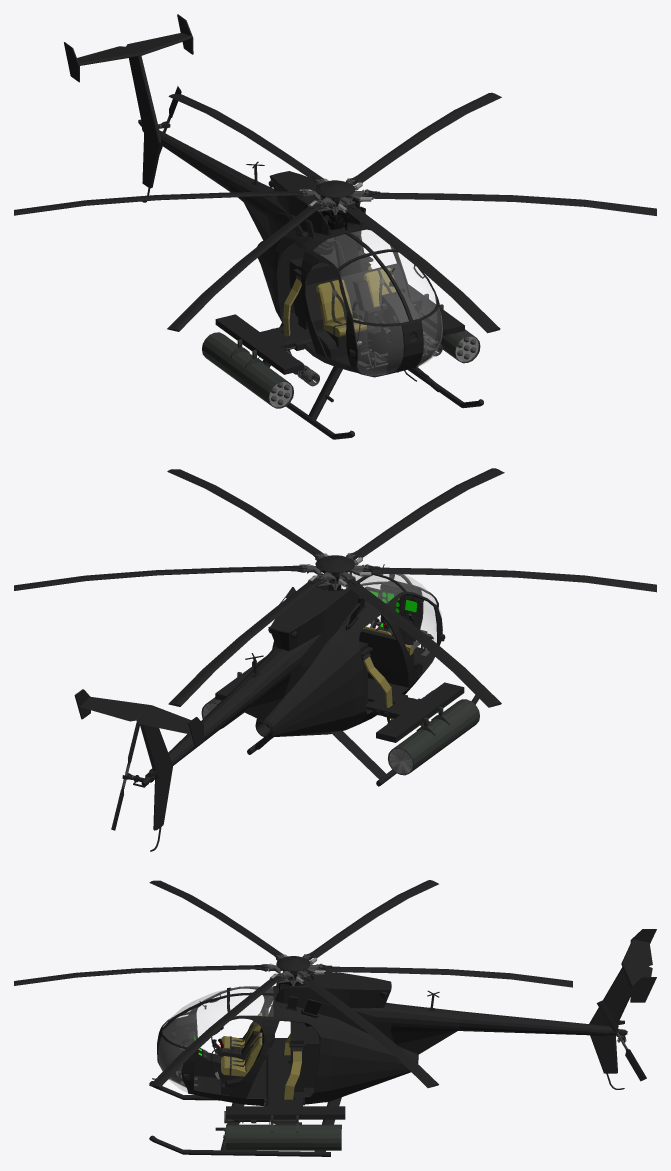
File: helicopter.glb
3 views of the same model, one above another, from view 1: azimuth 30°, elevation 25°; view 2: azimuth 150°, elevation 25°; view 3: azimuth 270°, elevation 25° (orthographic). The views are drawn at different scales.
Parts seen in each view (by area): view 1: base, helice 1, vidrio; view 2: base, helice 1, vidrio; view 3: base, helice 1, vidrio, helice 2.
Part boxes in pixels (x1,y1,x2,y2): base: (64,14,483,439); helice 1: (14,92,656,333); vidrio: (313,230,442,375); base: (74,564,479,851); helice 1: (14,468,656,707); vidrio: (341,572,441,647); base: (149,929,656,1156); helice 1: (14,880,572,1088); vidrio: (158,986,273,1092); helice 2: (596,1000,646,1081).
Size of the model in its own units: 8.42 by 3.29 by 11.
Materials: 9 (8 with a texture image).
